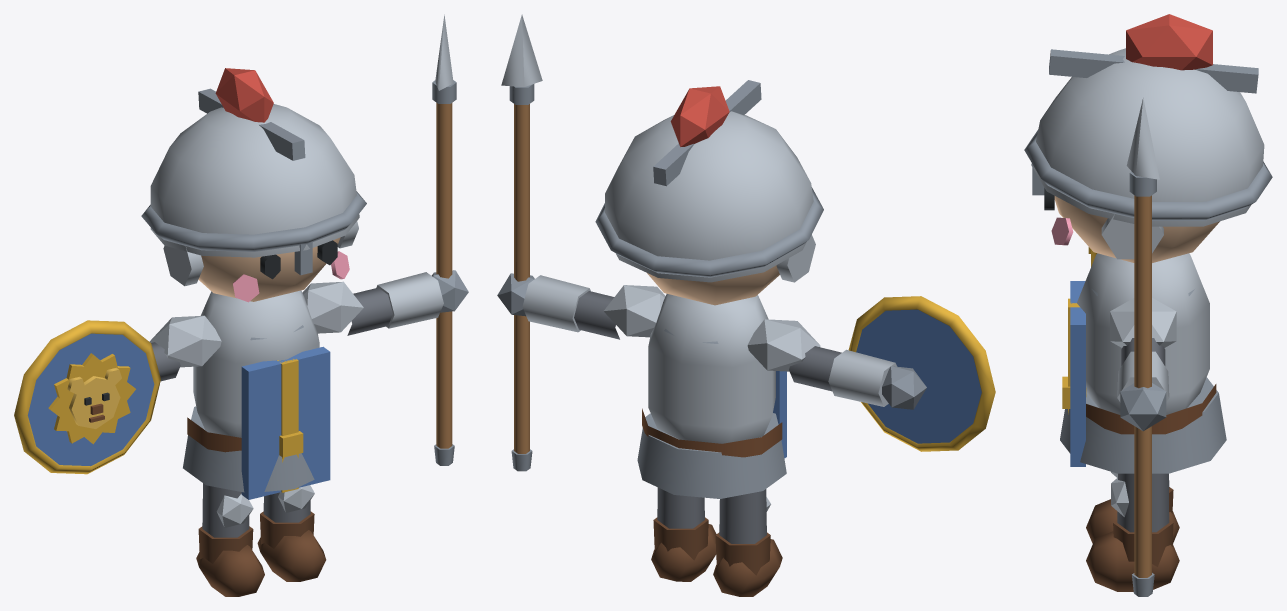
The model's file is knight_soldier.glb.
The picture shows the model from 3 angles, left to right: view 1: azimuth 30°, elevation 25°; view 2: azimuth 150°, elevation 25°; view 3: azimuth 270°, elevation 25°; orthographic projection. The views are drawn at different scales.
Parts seen in each view (by area): view 1: helmet, torso_armor, tabard, shield, spear_shaft, shield_rim, helmet_brim, hip_armor, head, shield_lion_mane, pauldron_left, vambrace_right (+19 smaller); view 2: helmet, torso_armor, shield, hip_armor, spear_shaft, shield_rim, helmet_brim, vambrace_left, pauldron_left, vambrace_right, plume, head (+16 smaller); view 3: helmet, torso_armor, hip_armor, spear_shaft, helmet_brim, plume, head, boot_right, helmet_ridge, tabard, pauldron_right, belt (+12 smaller).
Part boxes in pixels (x1=…): helmet: x1=150, y1=104, x2=359, y2=257; torso_armor: x1=193, y1=290, x2=319, y2=437; tabard: x1=241, y1=346, x2=330, y2=499; shield: x1=27, y1=333, x2=154, y2=466; spear_shaft: x1=436, y1=103, x2=452, y2=448; shield_rim: x1=14, y1=320, x2=160, y2=474; helmet_brim: x1=141, y1=191, x2=366, y2=251; hip_armor: x1=183, y1=406, x2=314, y2=492; head: x1=198, y1=237, x2=340, y2=301; shield_lion_mane: x1=48, y1=353, x2=135, y2=444; pauldron_left: x1=149, y1=315, x2=221, y2=367; vambrace_right: x1=376, y1=272, x2=443, y2=328; helmet: x1=605, y1=111, x2=813, y2=282; torso_armor: x1=648, y1=294, x2=775, y2=443; shield: x1=856, y1=309, x2=981, y2=443; hip_armor: x1=637, y1=413, x2=786, y2=498; spear_shaft: x1=514, y1=104, x2=529, y2=453; shield_rim: x1=848, y1=296, x2=995, y2=451; helmet_brim: x1=595, y1=187, x2=823, y2=277; vambrace_left: x1=828, y1=349, x2=896, y2=406; pauldron_left: x1=747, y1=319, x2=820, y2=371; vambrace_right: x1=522, y1=275, x2=590, y2=332; plume: x1=670, y1=86, x2=729, y2=146; head: x1=647, y1=265, x2=779, y2=305; helmet: x1=1031, y1=48, x2=1264, y2=226; torso_armor: x1=1077, y1=253, x2=1209, y2=414; hip_armor: x1=1060, y1=377, x2=1226, y2=473; spear_shaft: x1=1134, y1=195, x2=1151, y2=577; helmet_brim: x1=1024, y1=129, x2=1272, y2=220; plume: x1=1126, y1=14, x2=1212, y2=70; head: x1=1054, y1=196, x2=1219, y2=262; boot_right: x1=1086, y1=531, x2=1179, y2=591; helmet_ridge: x1=1049, y1=49, x2=1258, y2=93; tabard: x1=1070, y1=281, x2=1085, y2=466; pauldron_right: x1=1110, y1=298, x2=1176, y2=347; belt: x1=1086, y1=384, x2=1216, y2=434.
Size of the model in its own units: 1.14 by 1.21 by 0.4765.
